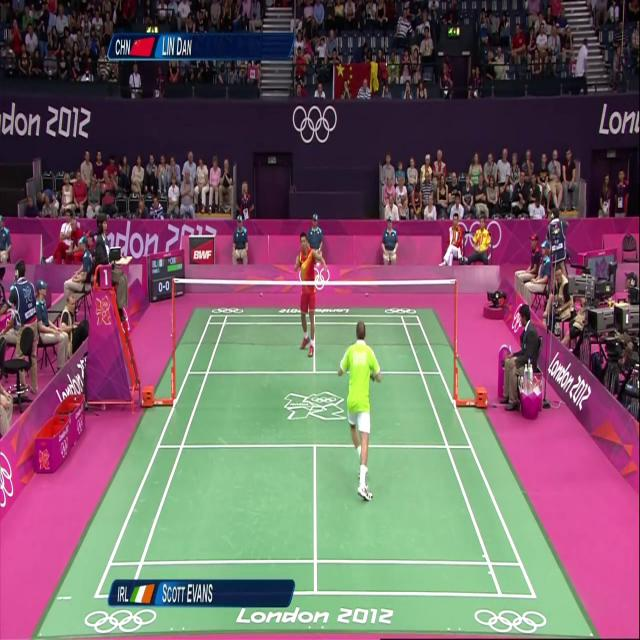Net: (174, 279, 458, 349)
Player1: (339, 307, 389, 506)
Player2: (290, 228, 324, 360)
Shuttlecock: (314, 258, 324, 272)
